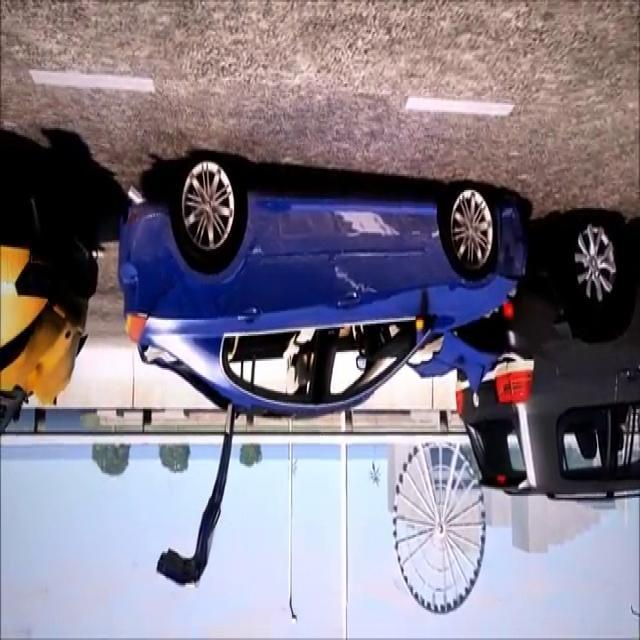moderate: (105, 150, 640, 604)
